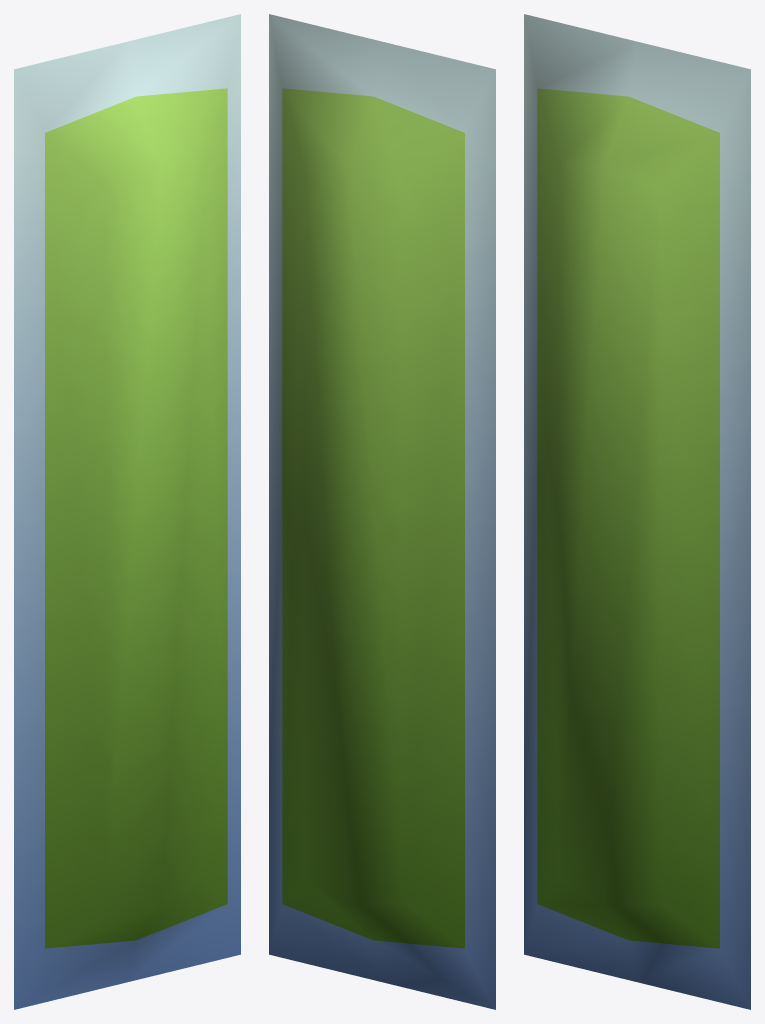
File: m_IcePops05.fbx
3 renders of one model, left to right at view 1: azimuth 30°, elevation 25°; view 2: azimuth 150°, elevation 25°; view 3: azimuth 330°, elevation 25°, orthographic.
Visible parts, largest first — view 1: m_IcePops05; view 2: m_IcePops05; view 3: m_IcePops05.
Boxes of the visible parts, x1,y1,x2,y2 form: m_IcePops05: (14,14,240,1009); m_IcePops05: (269,14,495,1009); m_IcePops05: (524,14,750,1009).
Bounding box in the file's own units: 5.05 × 20 × 2.6.
